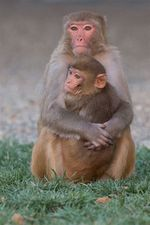monkey: (30, 7, 128, 185), (44, 56, 137, 175)
